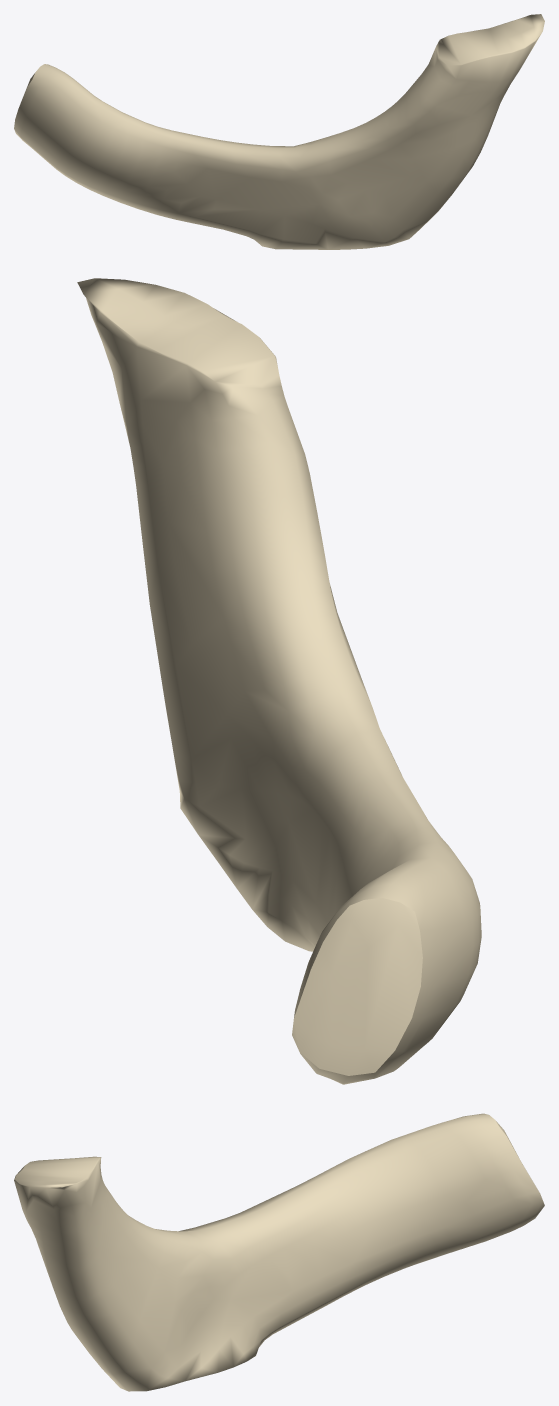
File: esqueleto-costal-cartilage-of-ninth-rib-r.glb
3 renders of one model, top to bottom at view 1: azimuth 30°, elevation 25°; view 2: azimuth 150°, elevation 25°; view 3: azimuth 270°, elevation 25°, orthographic. The views are drawn at different scales.
Visible parts, largest first — view 1: Costal cartilage of ninth rib.r; view 2: Costal cartilage of ninth rib.r; view 3: Costal cartilage of ninth rib.r.
Boxes of the visible parts, left/top/right/bottom form: Costal cartilage of ninth rib.r: left=14, top=14, right=544, bottom=249; Costal cartilage of ninth rib.r: left=77, top=278, right=481, bottom=1084; Costal cartilage of ninth rib.r: left=14, top=1113, right=544, bottom=1391.
Size of the model in its own units: 0.0619 by 0.0394 by 0.0667.
